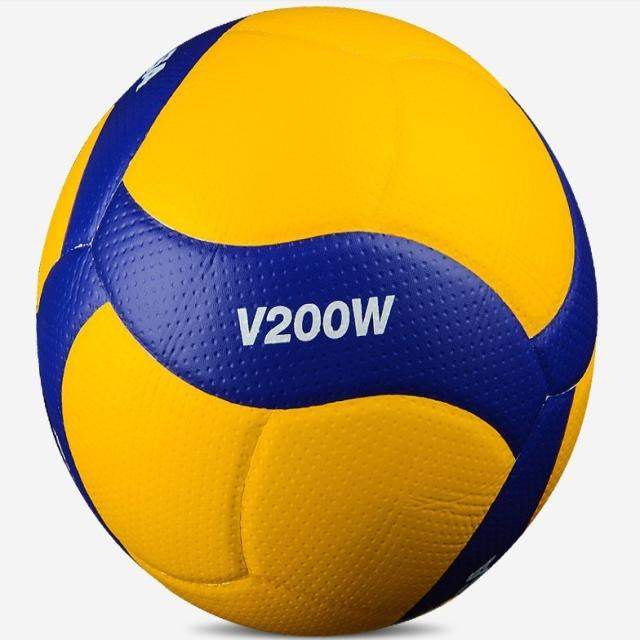Volleyball: (34, 4, 596, 637)
